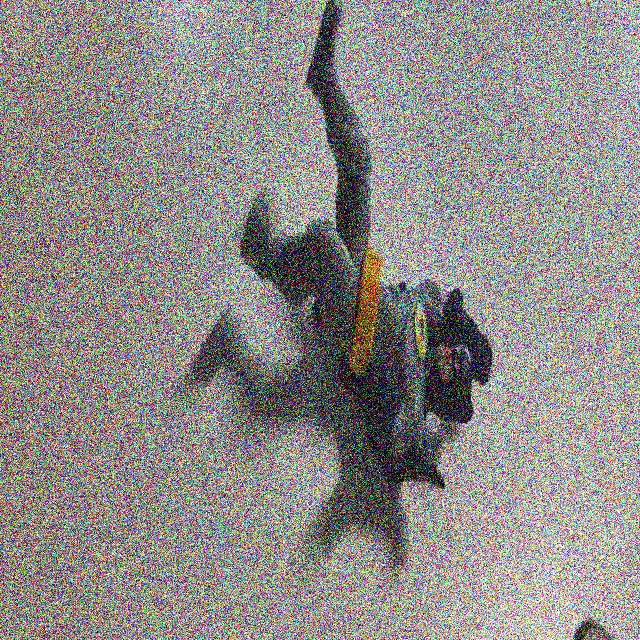Batman: (242, 1, 498, 537)
